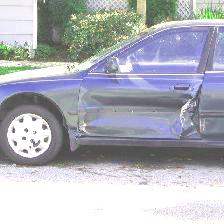door_dent: (73, 77, 215, 157)
